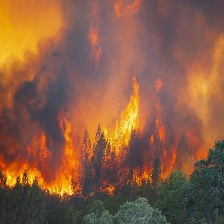fire: (1, 125, 84, 197), (102, 78, 144, 150), (131, 146, 184, 186), (104, 182, 116, 196)
smoke: (3, 7, 220, 151)
